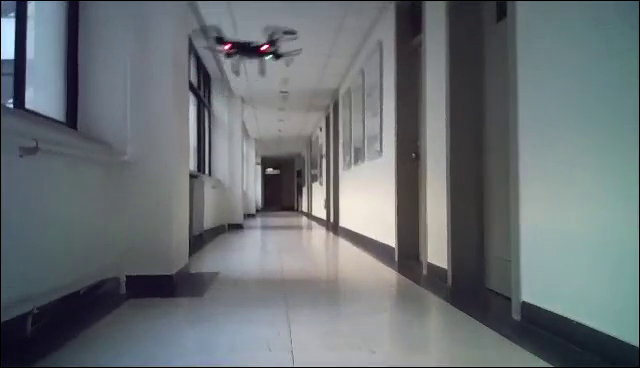drone: (193, 22, 304, 75)
